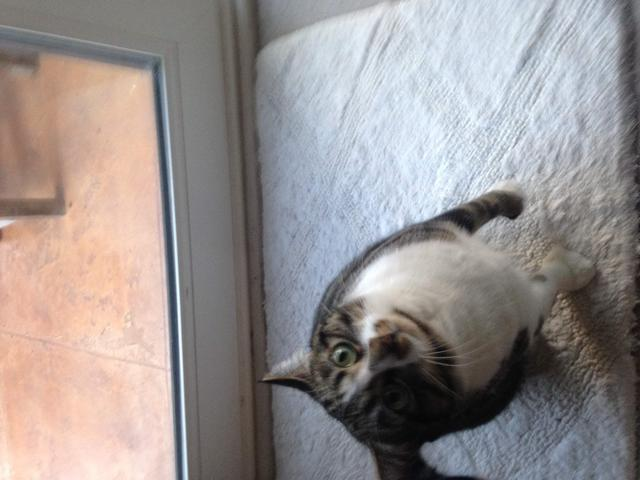playdoh: (257, 184, 597, 480)
